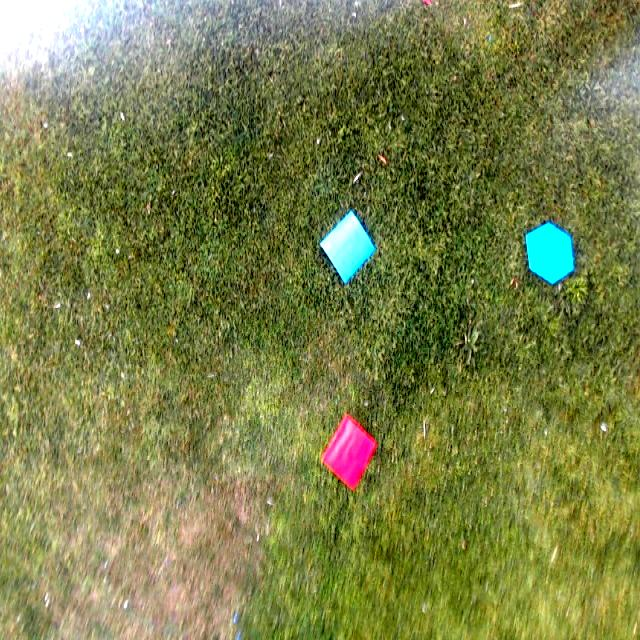blue_hexagon: (524, 222, 574, 284)
blue_square: (319, 208, 374, 284)
red_square: (321, 412, 376, 491)
